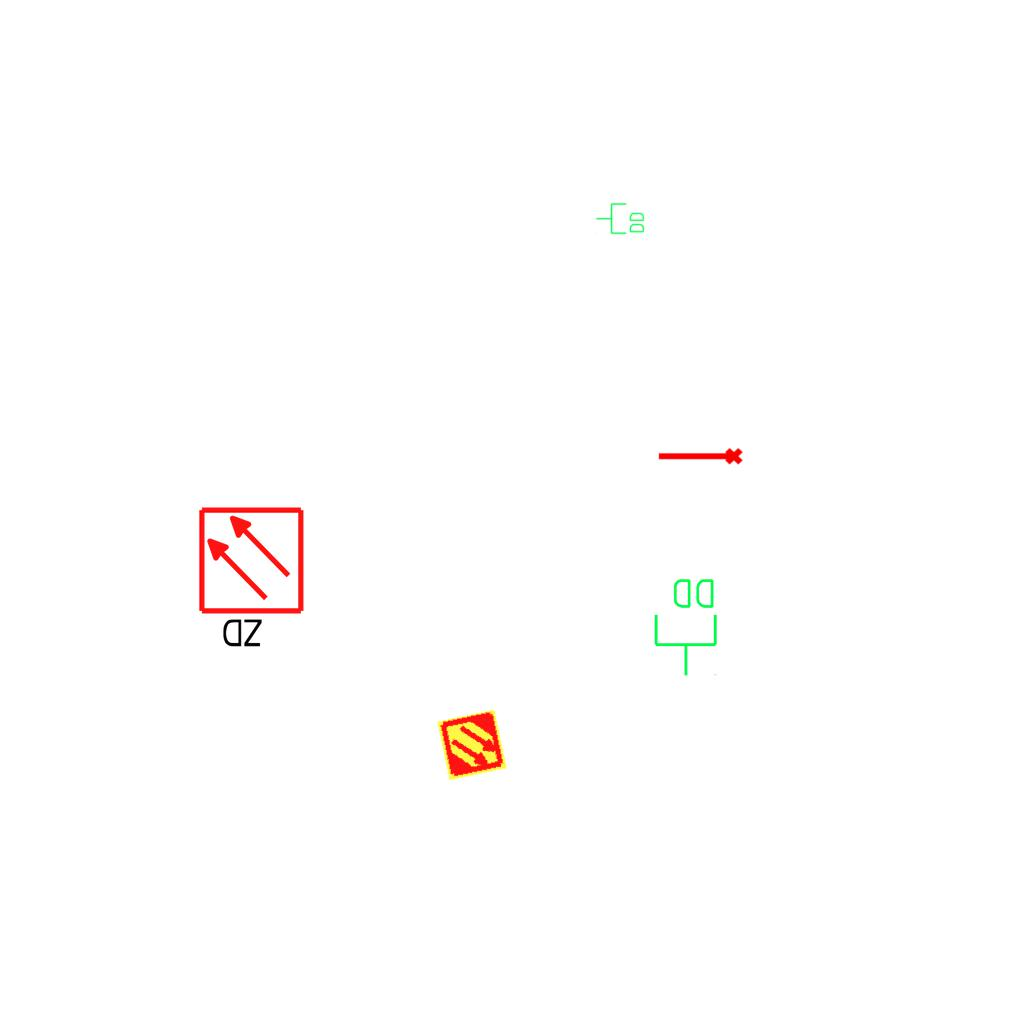ASR_Ansaugoeffnung: (656, 446, 744, 469)
ASR_Ansaugrauchmelder: (435, 708, 509, 782)
Datenanschluss_zweifach: (652, 575, 721, 678), (595, 202, 646, 236)
ZD_Melder_in_Zwischendecke_mit_Revisionsoeffnung_mind_40_x_40_cm: (196, 505, 310, 654)
